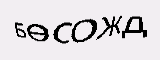Б: (107, 8, 127, 33)
З: (31, 11, 50, 38)
Ф: (52, 9, 73, 39)
Э: (91, 10, 105, 34)
Я: (73, 12, 93, 37)
